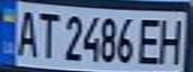2: (60, 11, 84, 62)
4: (78, 12, 103, 63)
6: (115, 15, 139, 65)
8: (100, 13, 121, 64)
A: (12, 6, 42, 58)
E: (136, 15, 166, 65)
H: (154, 14, 190, 65)
T: (33, 7, 60, 60)
